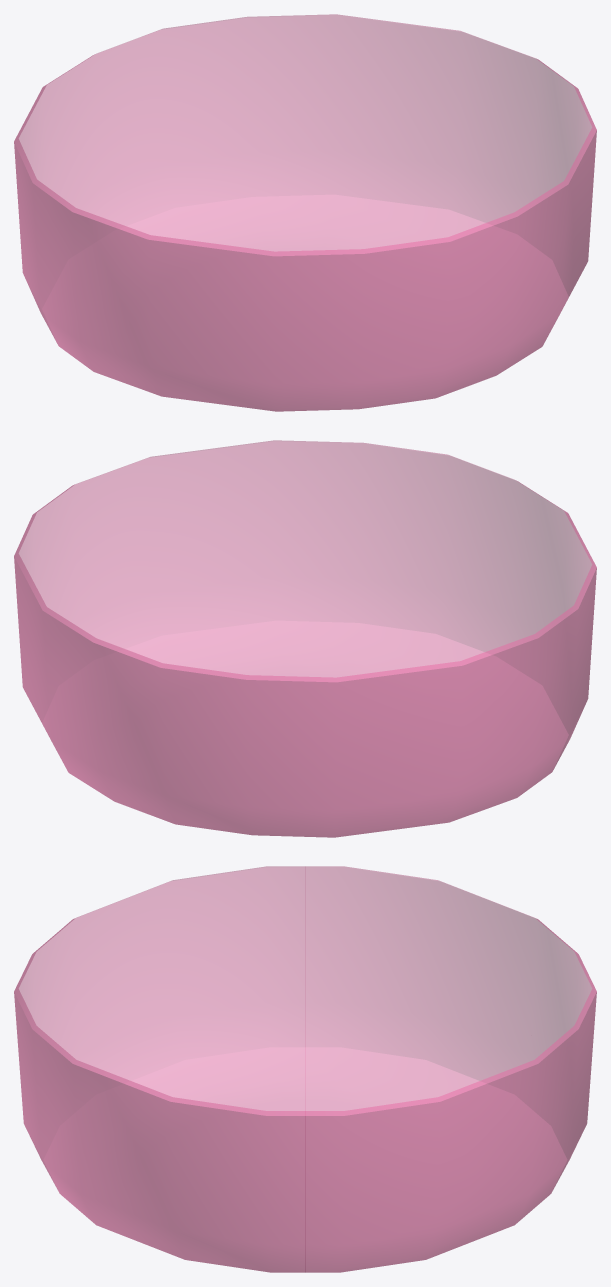
Rendered from GIRLSGENERATION_04.glb.
3 renders of one model, top to bottom at view 1: azimuth 30°, elevation 25°; view 2: azimuth 150°, elevation 25°; view 3: azimuth 270°, elevation 25°, orthographic.
Bounding box in the file's own units: 0.0546 × 0.0191 × 0.0541.
